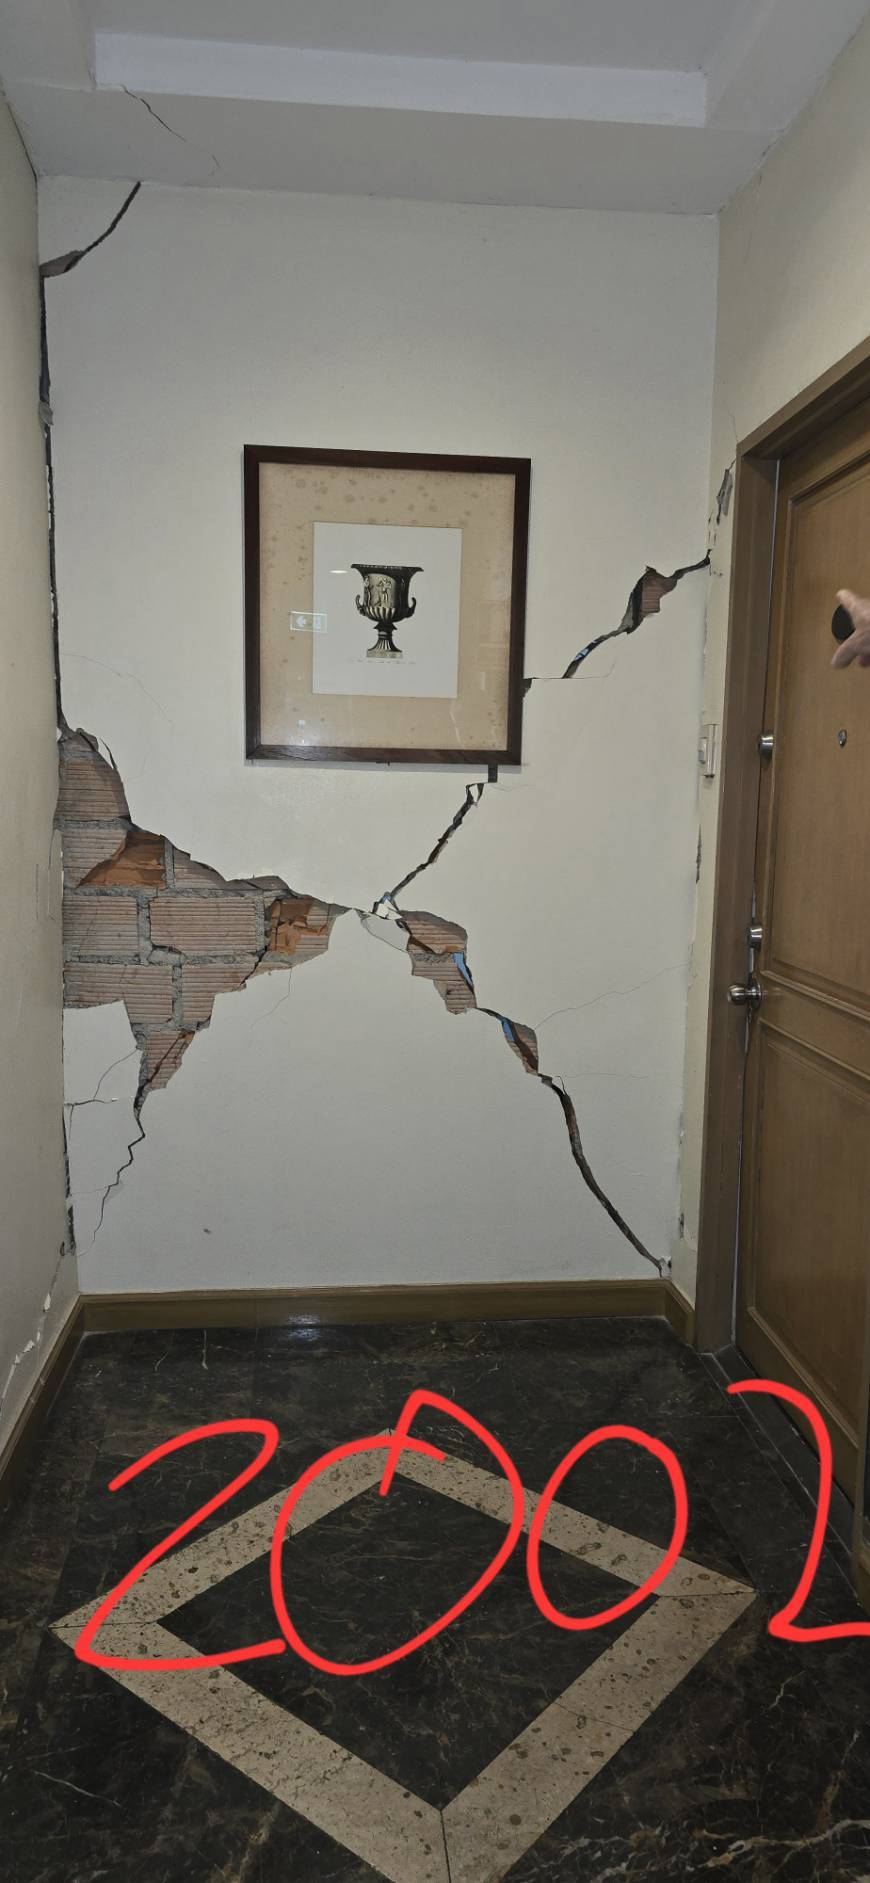Medium: (347, 775, 673, 1283)
